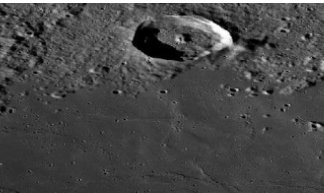crater: (91, 5, 256, 103)
